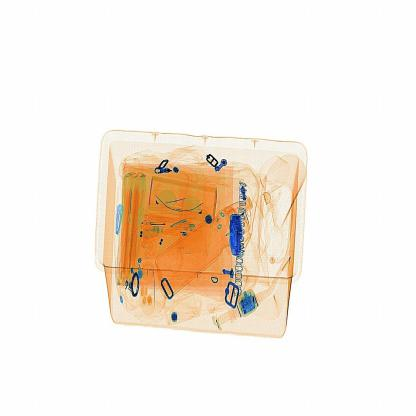scissors: (223, 199, 253, 264)
